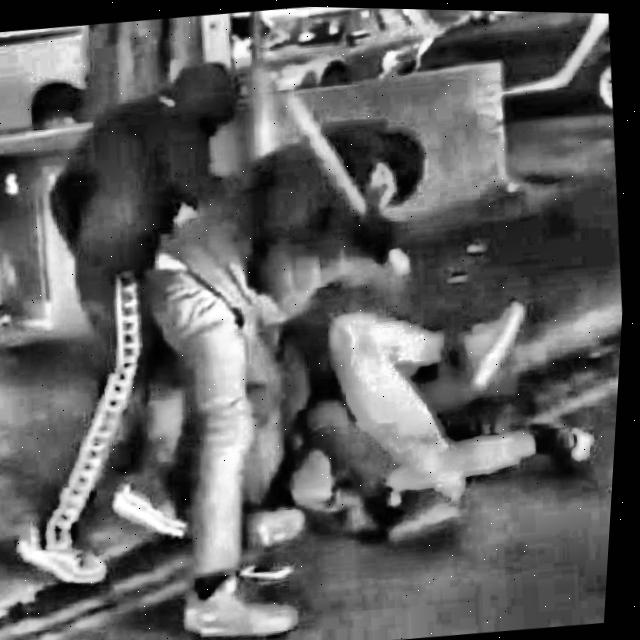robbery: (20, 44, 596, 640)
tongkat pemukul: (273, 79, 424, 295)
